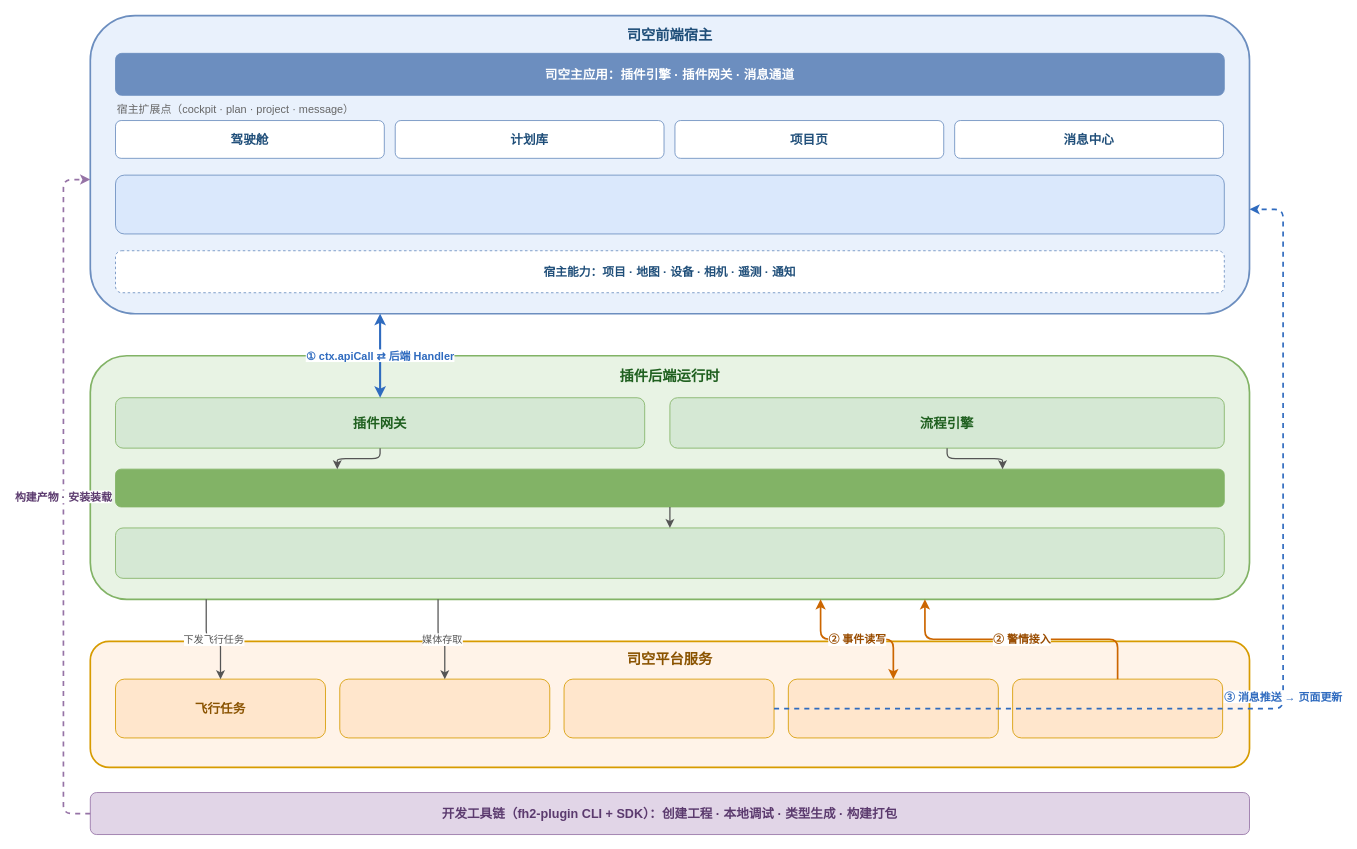
This 1357x849 diagram has some shape labels left out. The centre of each missing label's shape, as x and y in pixels:
事件中心: the point at 893,708
交警能力包插件 · 前端成员: the point at 669,204
交警能力包插件 · 后端成员: the point at 669,552
外部警情源: the point at 1117,708
媒体库: the point at 444,708
消息推送: the point at 668,708
能力沙箱：数据 · 媒体 · 航线 · 通知 · 受管出网: the point at 669,487
